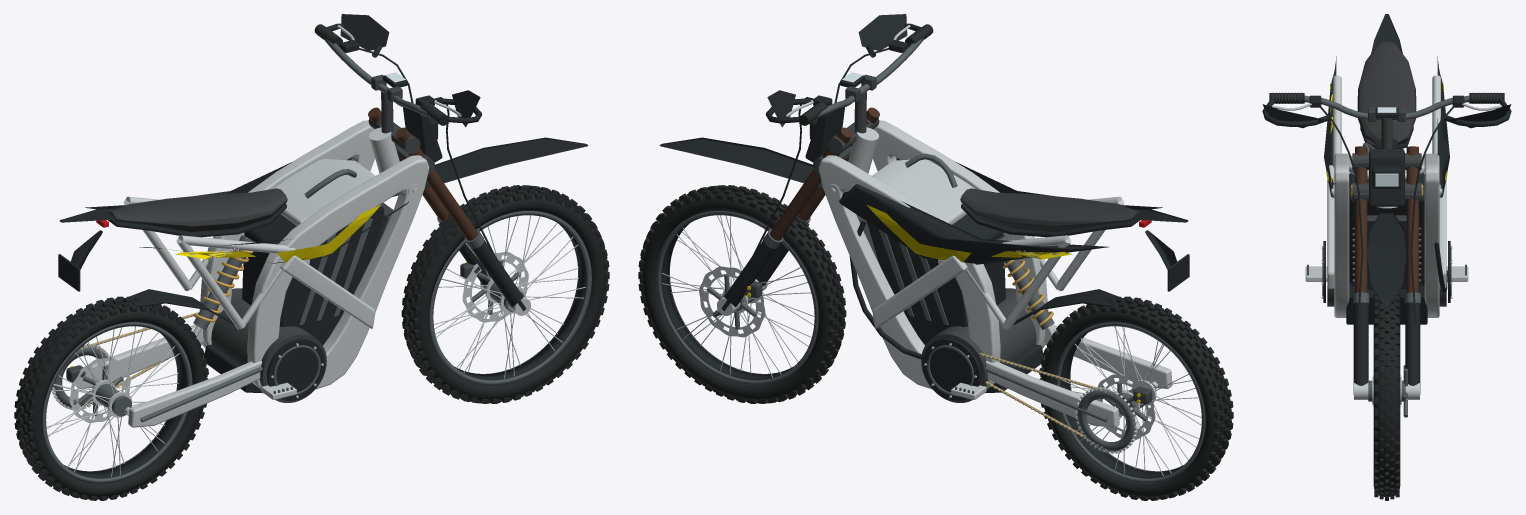
File: sur-ron-ultra-bee.glb
The picture shows the model from 3 angles, left to right: view 1: azimuth 30°, elevation 25°; view 2: azimuth 150°, elevation 25°; view 3: azimuth 270°, elevation 25°; orthographic projection. The views are drawn at different scales.
Parts seen in each view (by area): view 1: Chassis | Machined satin aluminium, FrontWheel | Offroad tyre rubber, RearWheel | Offroad tyre rubber, Bodywork | Satin black polymer, RearSuspension | Machined satin aluminium, BatteryMount | Satin black polymer, Bodywork | Grained charcoal saddle, FrontWheel | Machined satin aluminium, RearWheel | Machined satin aluminium, Cockpit | Satin black polymer, RearWheel | Anodized gunmetal, FrontWheel | Anodized gunmetal (+14 smaller); view 2: Chassis | Machined satin aluminium, Bodywork | Satin black polymer, FrontWheel | Offroad tyre rubber, RearWheel | Offroad tyre rubber, RearSuspension | Machined satin aluminium, Bodywork | Grained charcoal saddle, BatteryMount | Satin black polymer, FrontWheel | Machined satin aluminium, MotorMount | Satin black polymer, Cockpit | Satin black polymer, BatteryMount | Machined satin aluminium, FrontWheel | Anodized gunmetal (+16 smaller); view 3: Chassis | Machined satin aluminium, Bodywork | Satin black polymer, FrontWheel | Offroad tyre rubber, Bodywork | Grained charcoal saddle, Cockpit | Satin black polymer, Fork | Bronze fork tubes, Fork | Satin black polymer, MotorMount | Satin black polymer, BatteryMount | Satin black polymer, RearSuspension | Machined satin aluminium, Fork | Cast graphite aluminium, Cockpit | Anodized gunmetal (+8 smaller).
Boxes of the visible parts, left/top/right/bottom form: Chassis | Machined satin aluminium: left=199, top=120, right=429, bottom=399; FrontWheel | Offroad tyre rubber: left=401, top=185, right=609, bottom=403; RearWheel | Offroad tyre rubber: left=14, top=296, right=208, bottom=500; Bodywork | Satin black polymer: left=58, top=107, right=588, bottom=325; RearSuspension | Machined satin aluminium: left=76, top=196, right=295, bottom=427; BatteryMount | Satin black polymer: left=242, top=205, right=384, bottom=344; Bodywork | Grained charcoal saddle: left=108, top=188, right=287, bottom=231; FrontWheel | Machined satin aluminium: left=433, top=215, right=585, bottom=378; RearWheel | Machined satin aluminium: left=46, top=326, right=179, bottom=477; Cockpit | Satin black polymer: left=327, top=14, right=496, bottom=257; RearWheel | Anodized gunmetal: left=42, top=322, right=192, bottom=483; FrontWheel | Anodized gunmetal: left=429, top=211, right=591, bottom=385; Chassis | Machined satin aluminium: left=818, top=120, right=1048, bottom=399; Bodywork | Satin black polymer: left=659, top=107, right=1189, bottom=325; FrontWheel | Offroad tyre rubber: left=638, top=185, right=846, bottom=403; RearWheel | Offroad tyre rubber: left=1039, top=296, right=1233, bottom=500; RearSuspension | Machined satin aluminium: left=965, top=196, right=1172, bottom=427; Bodywork | Grained charcoal saddle: left=960, top=188, right=1139, bottom=231; BatteryMount | Satin black polymer: left=866, top=214, right=1005, bottom=344; FrontWheel | Machined satin aluminium: left=662, top=215, right=814, bottom=377; MotorMount | Satin black polymer: left=849, top=221, right=1043, bottom=400; Cockpit | Satin black polymer: left=751, top=14, right=920, bottom=257; BatteryMount | Machined satin aluminium: left=872, top=159, right=974, bottom=224; FrontWheel | Anodized gunmetal: left=656, top=211, right=818, bottom=385; Chassis | Machined satin aluminium: left=1305, top=153, right=1468, bottom=317; Bodywork | Satin black polymer: left=1324, top=14, right=1449, bottom=306; FrontWheel | Offroad tyre rubber: left=1373, top=290, right=1400, bottom=500; Bodywork | Grained charcoal saddle: left=1357, top=41, right=1416, bottom=145; Cockpit | Satin black polymer: left=1262, top=95, right=1511, bottom=328; Fork | Bronze fork tubes: left=1355, top=146, right=1418, bottom=292; Fork | Satin black polymer: left=1353, top=302, right=1420, bottom=394; MotorMount | Satin black polymer: left=1323, top=241, right=1450, bottom=324; BatteryMount | Satin black polymer: left=1349, top=173, right=1424, bottom=286; RearSuspension | Machined satin aluminium: left=1333, top=75, right=1440, bottom=167; Fork | Cast graphite aluminium: left=1352, top=153, right=1421, bottom=199; Cockpit | Anodized gunmetal: left=1304, top=95, right=1469, bottom=119.
Bounding box in the file's own units: 2.06 × 1.22 × 0.8012.
